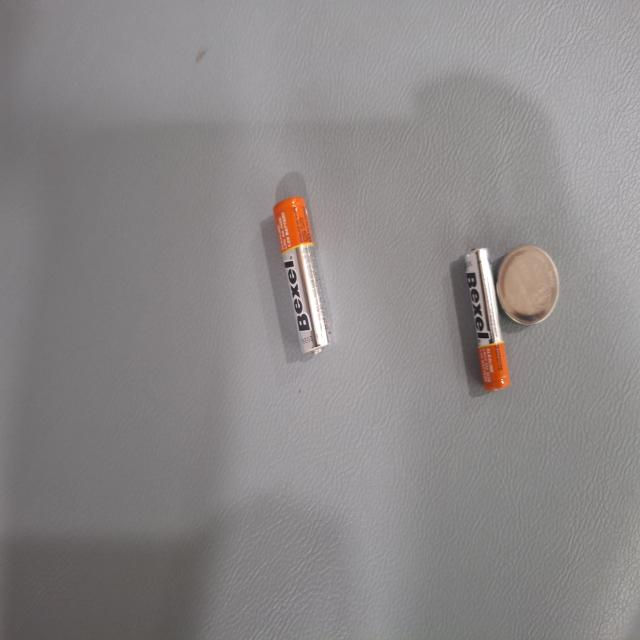AA: (147, 409, 268, 488)
AAA: (184, 171, 294, 239)
COIN: (182, 108, 245, 193)
